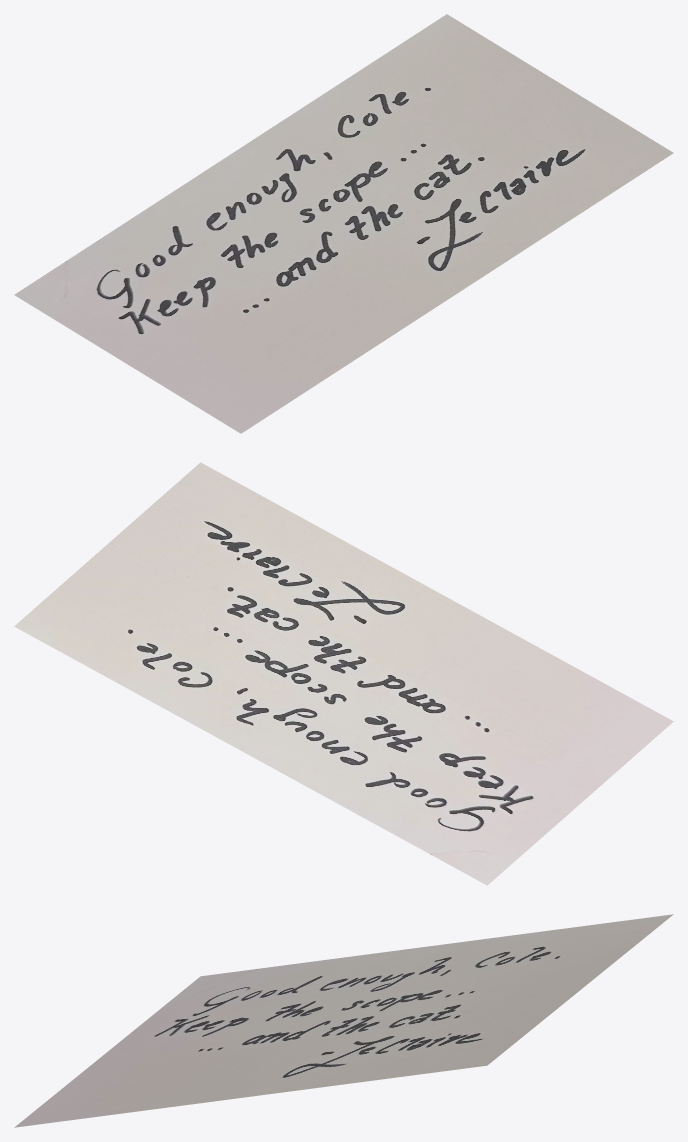
Rendered from letter.glb.
3 views of the same model, one above another, from view 1: azimuth 30°, elevation 25°; view 2: azimuth 150°, elevation 25°; view 3: azimuth 330°, elevation 25° (orthographic).
Visible parts, largest first — view 1: Plane; view 2: Plane; view 3: Plane.
Boxes of the visible parts, box(x1,y1,x2,y2) form: Plane: box(14, 14, 673, 433); Plane: box(14, 462, 673, 885); Plane: box(14, 914, 673, 1127).
Bounding box in the file's own units: 0.1982 × 0.0662 × 0.1622.
1 material, 1 textured.
